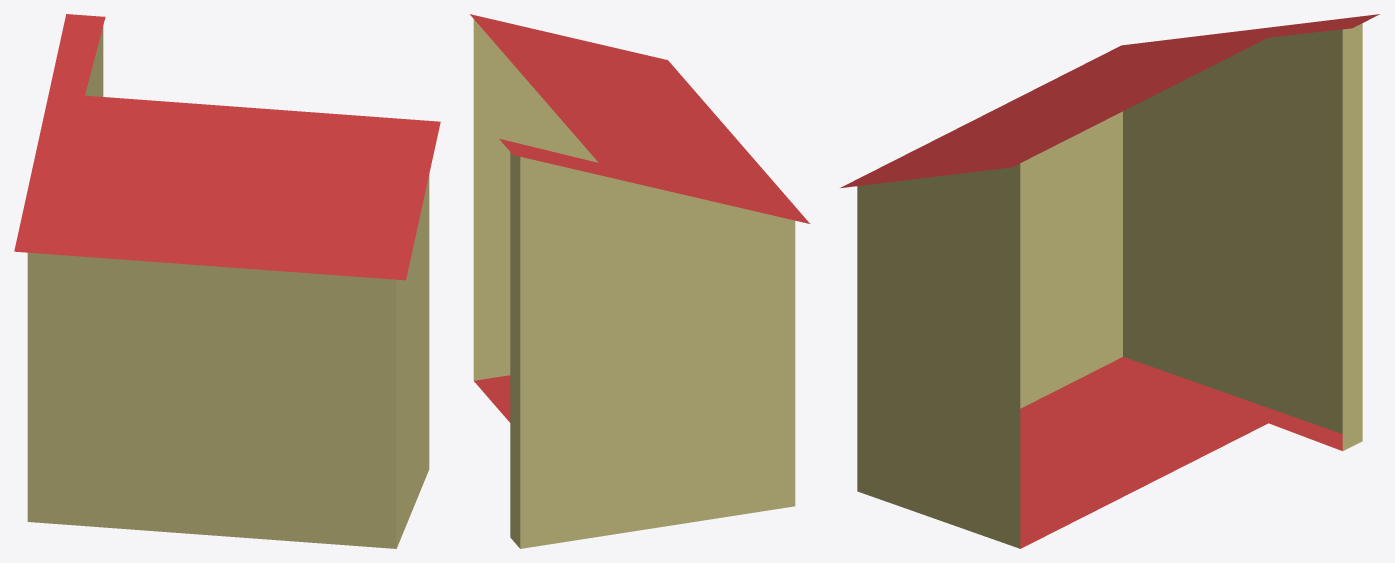
3 views of the same model, side by side, from view 1: azimuth 30°, elevation 25°; view 2: azimuth 150°, elevation 25°; view 3: azimuth 270°, elevation 25° (orthographic). The views are drawn at different scales.
Bounding box in the file's own units: 9.46 × 10.61 × 9.22.
